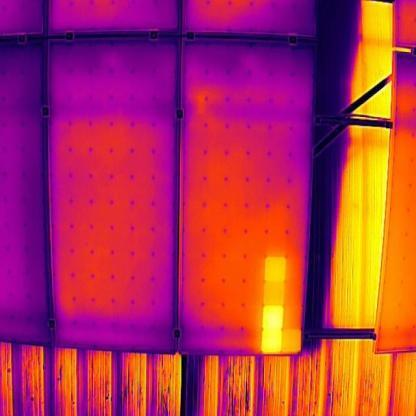anomaly: (257, 251, 308, 355)
